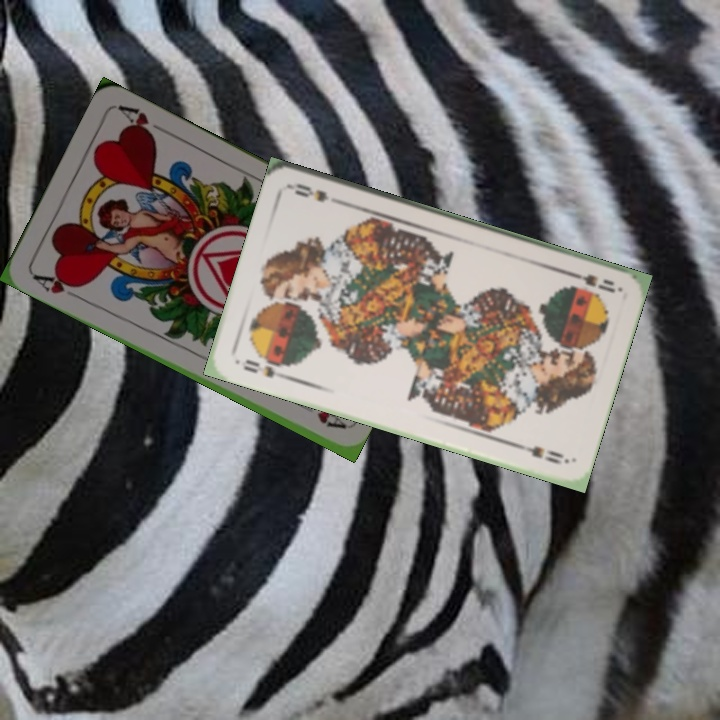HA: (28, 269, 84, 301)
SO: (563, 267, 622, 295), (239, 355, 290, 382)
